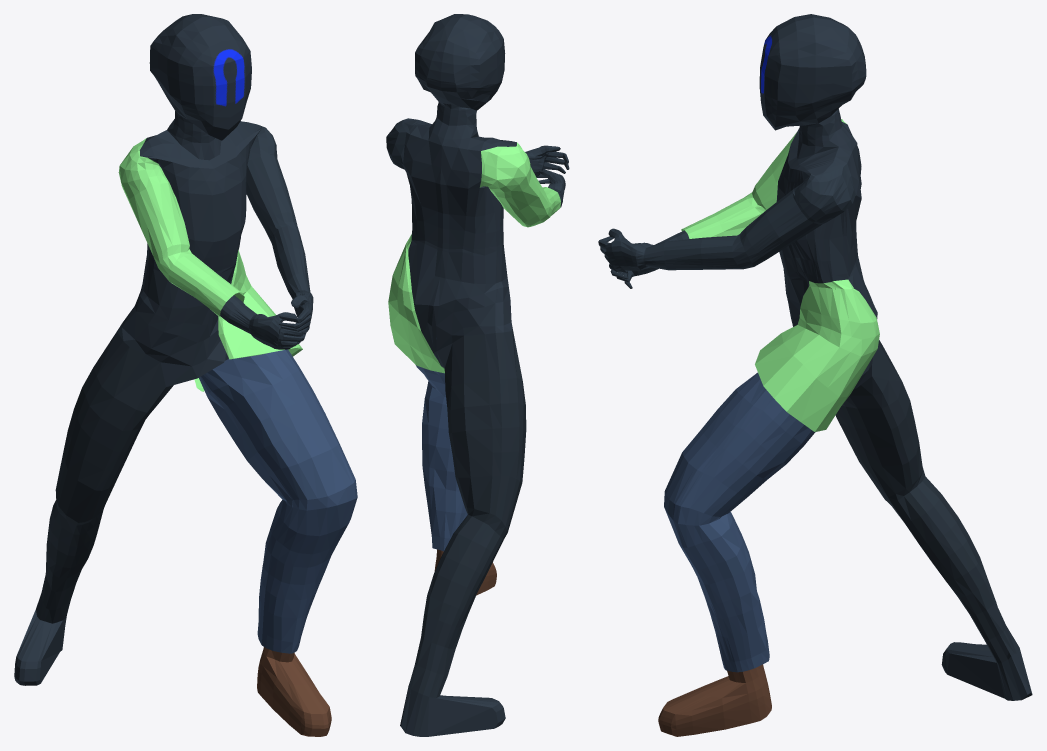
Rendered from Mar_WR_000028.obj.
The picture shows the model from 3 angles, left to right: view 1: azimuth 30°, elevation 25°; view 2: azimuth 150°, elevation 25°; view 3: azimuth 270°, elevation 25°; orthographic projection. The views are drawn at different scales.
Parts seen in each view (by area): view 1: Cube.000_Cube.001; view 2: Cube.000_Cube.001; view 3: Cube.000_Cube.001.
Part boxes in pixels (box(x1,y1,x2,y2)): Cube.000_Cube.001: box(14, 14, 357, 736); Cube.000_Cube.001: box(386, 14, 569, 736); Cube.000_Cube.001: box(598, 14, 1032, 736).
Bounding box in the file's own units: 1.16 × 3.71 × 2.07.
